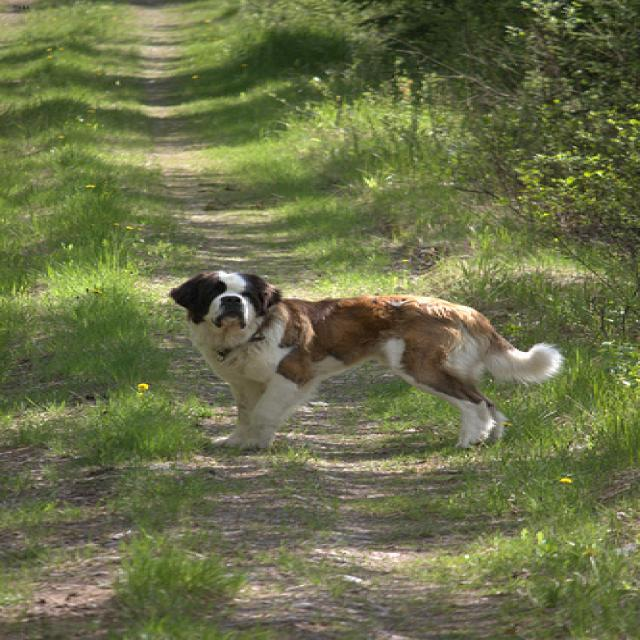dog-saint_bernard: (158, 264, 573, 460)
